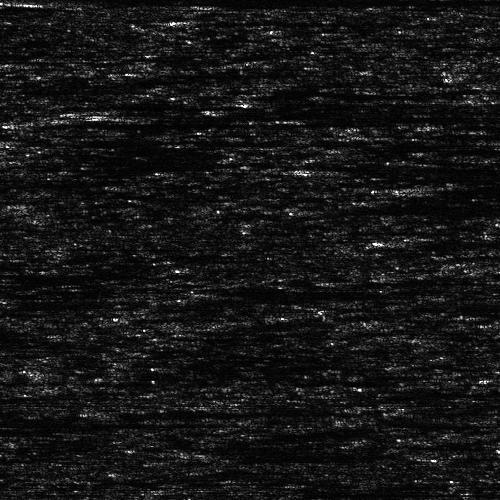object: (176, 445, 259, 458), (344, 236, 427, 249), (0, 118, 74, 131), (56, 105, 139, 116), (174, 17, 227, 24), (164, 264, 217, 269), (315, 277, 368, 282), (197, 106, 238, 111), (0, 138, 27, 145), (105, 408, 146, 411), (0, 0, 16, 3)
shadow: (12, 118, 457, 131), (97, 105, 457, 116), (218, 445, 395, 458), (1, 138, 267, 145), (0, 173, 141, 186), (200, 17, 399, 24), (217, 106, 494, 111), (0, 267, 144, 276), (386, 236, 479, 249), (1, 0, 377, 3), (0, 421, 197, 426), (341, 277, 500, 282), (0, 273, 134, 278), (126, 408, 299, 411), (191, 264, 281, 269), (0, 48, 39, 59)
